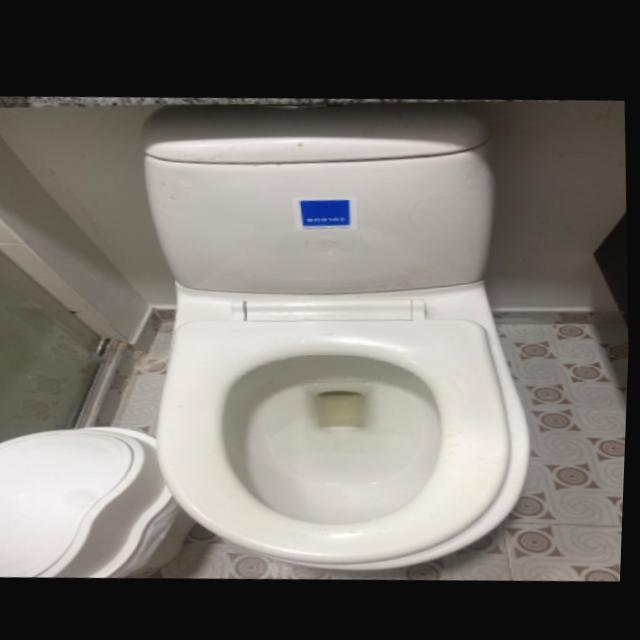toilet: (129, 80, 550, 585)
